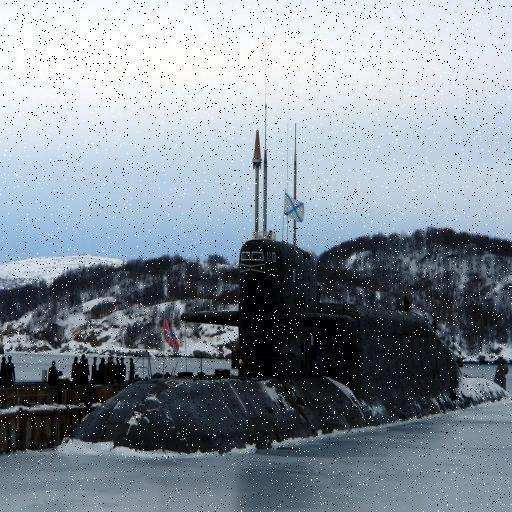submarine: (49, 88, 512, 475)
